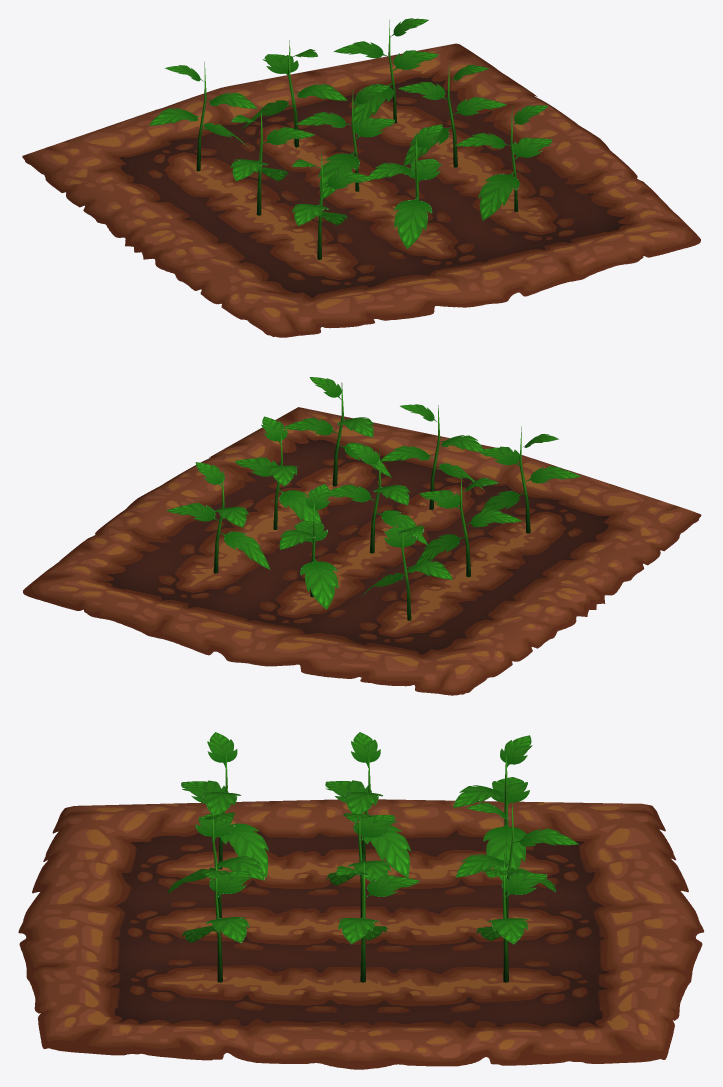
The model's file is Tomato_Field_Lv1.FBX.
3 renders of one model, top to bottom at view 1: azimuth 30°, elevation 25°; view 2: azimuth 150°, elevation 25°; view 3: azimuth 270°, elevation 25°, orthographic. The views are drawn at different scales.
Visible parts, largest first — view 1: Tomato_Field_Lv1; view 2: Tomato_Field_Lv1; view 3: Tomato_Field_Lv1.
Part boxes in pixels (x1,y1,x2,y2): Tomato_Field_Lv1: (22,18,700,337); Tomato_Field_Lv1: (23,377,701,695); Tomato_Field_Lv1: (18,732,704,1069).
Bounding box in the file's own units: 274 × 64.6 × 296.
